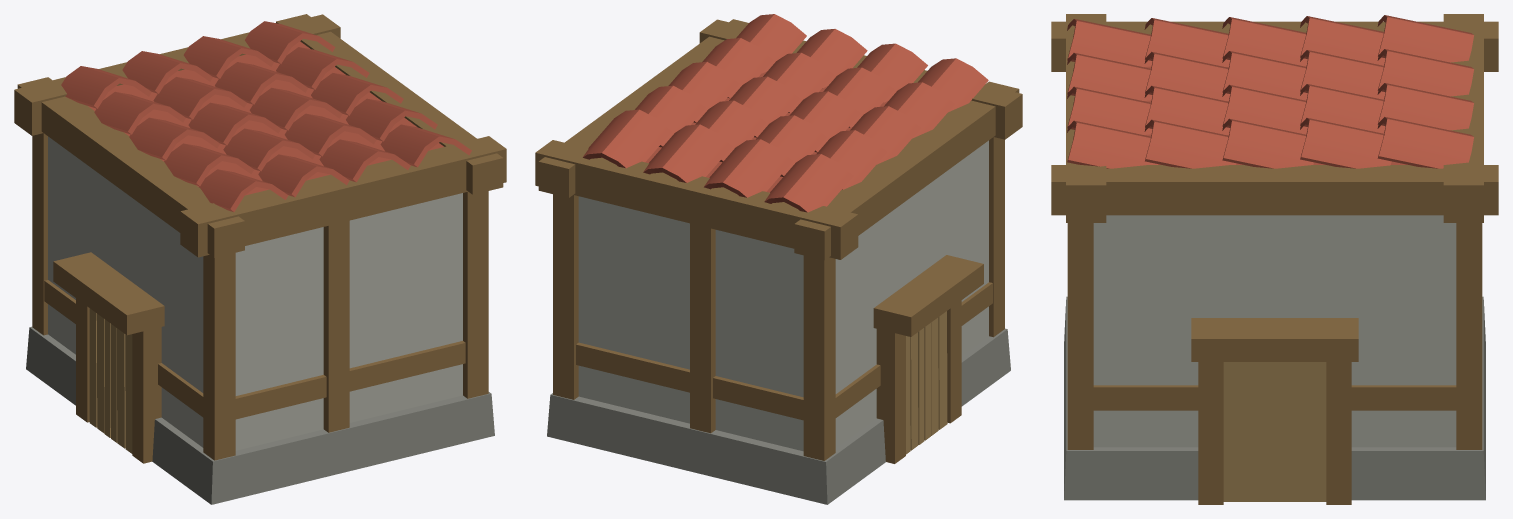
File: House-YlADpCJU8U.glb
3 views of the same model, side by side, from view 1: azimuth 30°, elevation 25°; view 2: azimuth 150°, elevation 25°; view 3: azimuth 270°, elevation 25° (orthographic). The views are drawn at different scales.
Parts seen in each view (by area): view 1: Houses_SecondAge_3_Level1; view 2: Houses_SecondAge_3_Level1; view 3: Houses_SecondAge_3_Level1.
Boxes of the visible parts, x1,y1,x2,y2 form: Houses_SecondAge_3_Level1: (14, 14, 506, 504); Houses_SecondAge_3_Level1: (535, 14, 1022, 504); Houses_SecondAge_3_Level1: (1051, 14, 1498, 504).
Bounding box in the file's own units: 0.6765 × 0.5908 × 0.6765.
